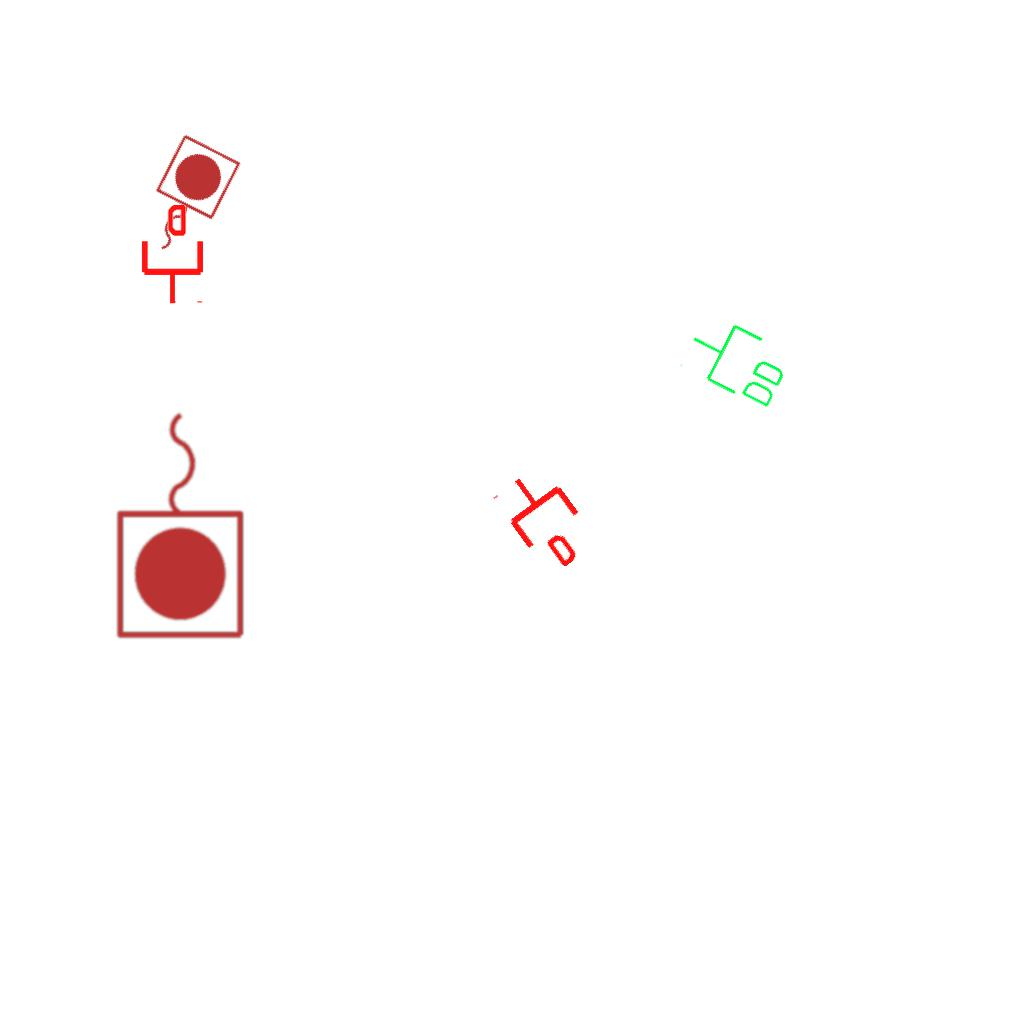Datenanschluss_einfach: (488, 458, 603, 580), (138, 205, 207, 305)
Datenanschluss_zweifach: (675, 307, 800, 416)
Zugtaster: (110, 402, 254, 646), (126, 128, 246, 270)
